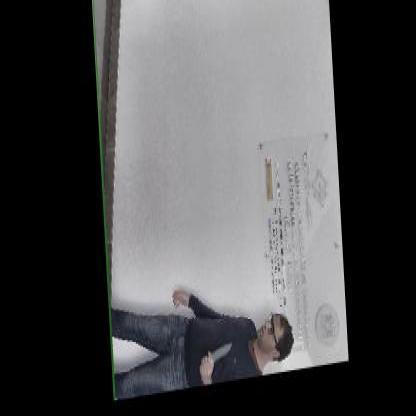knife: (194, 344, 230, 374)
